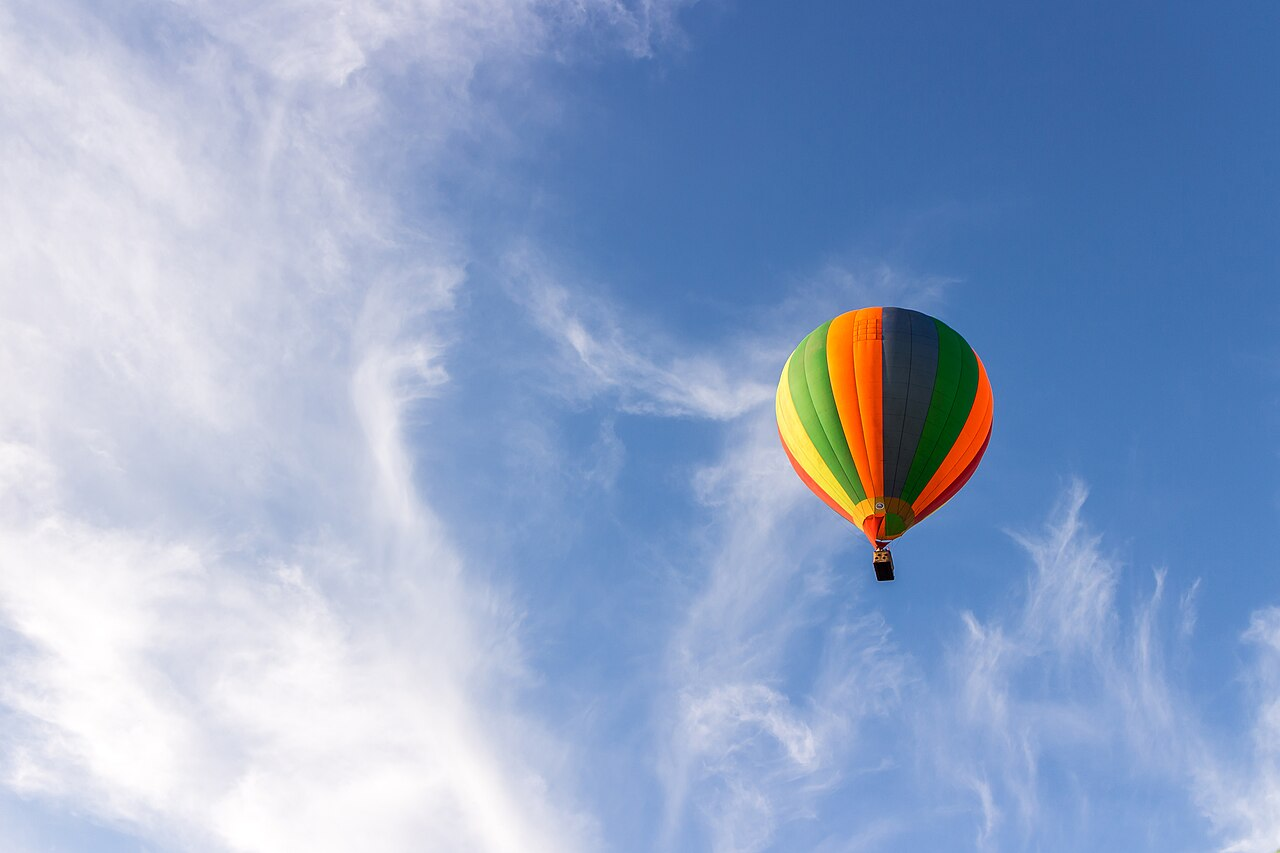balloon: (774, 305, 996, 583)
